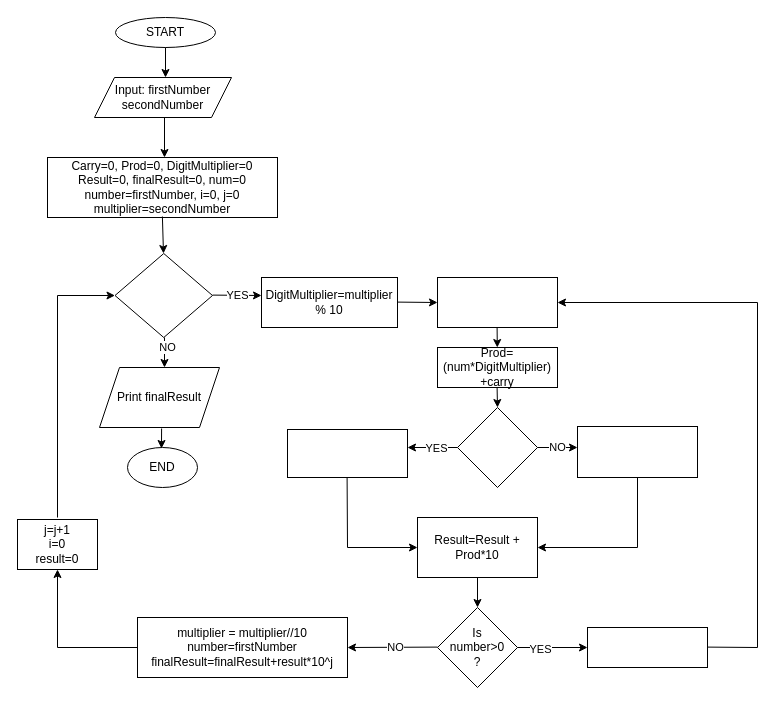
The diagram is 783 pixels wide and 705 high, and some of its shapes have lost their labels. The shapes that lost their labels are listed below. From the top down, each one's centre as x and y in pixels, then its label:
point (163, 295): Is multiplier>0 ?
point (497, 302): num=number%10
point (347, 453): Carry=Prod//10 Prod=Prod%10 number=number//10
point (497, 447): Is Prod>10 ?
point (637, 452): Carry=0 number=number
point (647, 647): i =i + 1
